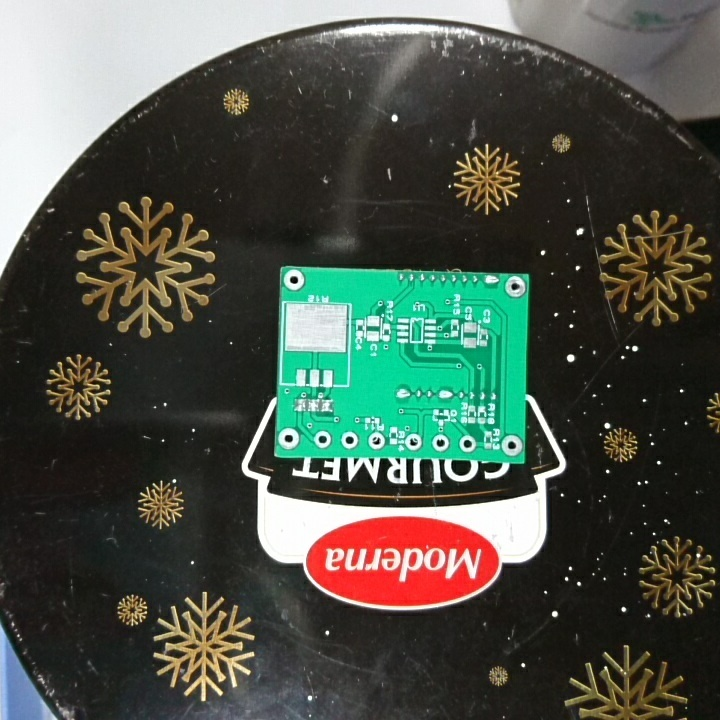F: (277, 425, 302, 451), (282, 267, 306, 293), (500, 432, 524, 458), (504, 274, 527, 300), (402, 431, 424, 453), (311, 426, 332, 449), (338, 429, 359, 452), (366, 429, 387, 451), (430, 432, 452, 453), (457, 432, 477, 454)
P: (478, 273, 500, 288), (436, 386, 455, 402), (393, 385, 412, 400)
